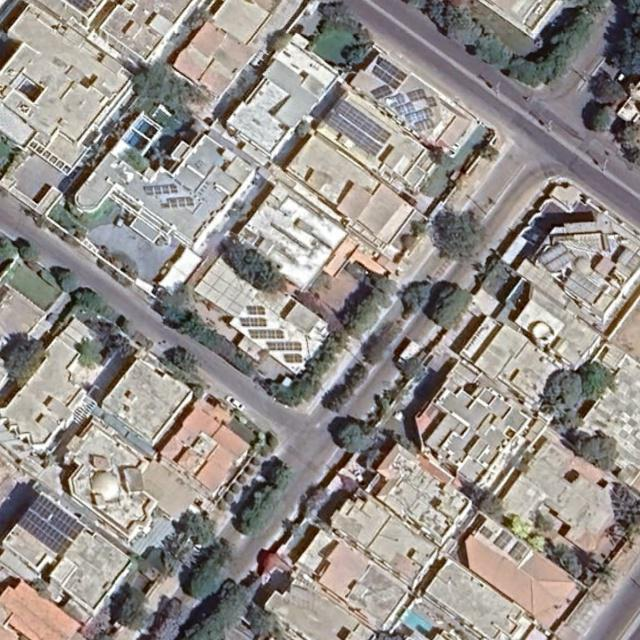solar panel: (18, 493, 83, 559), (324, 111, 383, 157), (332, 100, 391, 145), (537, 242, 578, 276), (565, 270, 602, 307), (369, 66, 403, 90), (376, 59, 410, 81), (402, 108, 439, 125), (408, 90, 438, 109), (508, 539, 528, 563), (162, 197, 195, 210), (249, 329, 286, 340), (372, 84, 395, 100), (494, 529, 512, 549), (145, 185, 179, 195), (265, 343, 302, 351), (413, 119, 434, 130), (241, 318, 268, 326), (396, 104, 415, 115), (480, 527, 493, 539), (286, 354, 303, 363), (248, 307, 267, 314)
